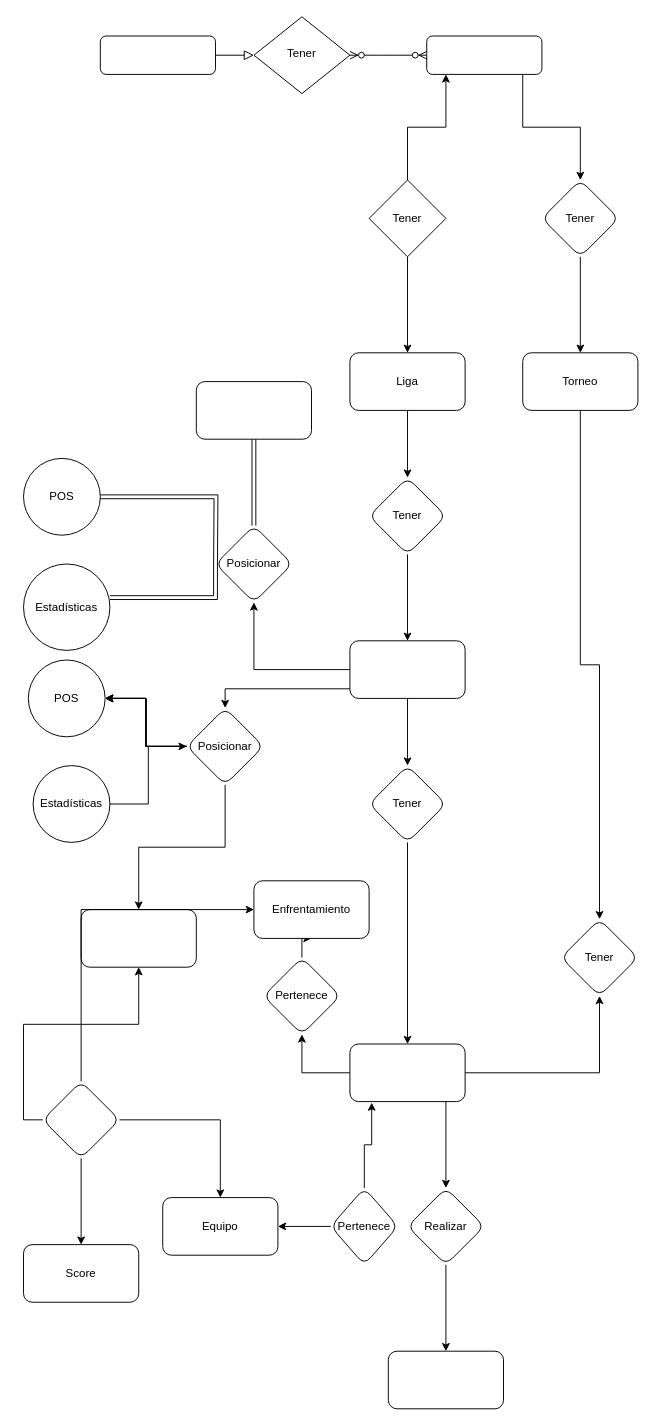
Image size: 655x1426. Some labels were removed from this diagram. Here are the shapes that lost their labels. From the top down, the centre of each, then its label:
the point at 157,54: Modalidad Deportiva
the point at 484,54: Campeonato
the point at 253,410: Facultad
the point at 407,669: Grupo
the point at 138,938: Atleta
the point at 407,1072: Evento
the point at 81,1119: Pertenecer
the point at 445,1379: Localización
